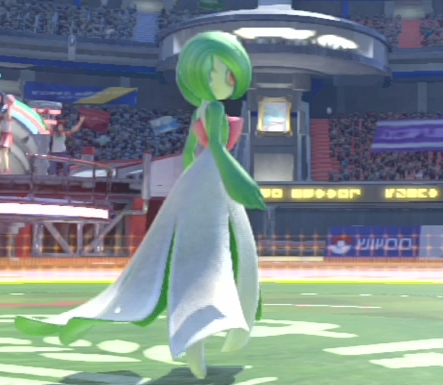gardevoir: (9, 30, 264, 383)
